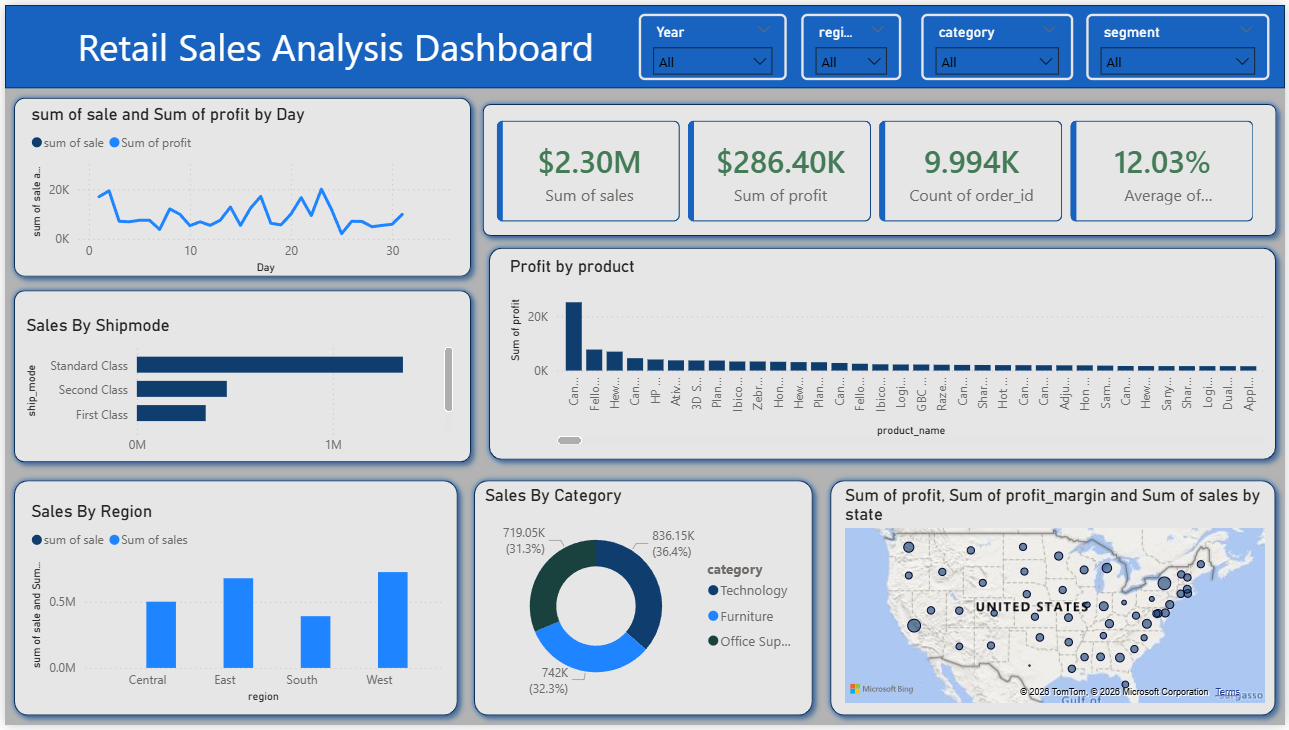

The page's visual inventory and layout, read from the dashboard file:
{"tool":"powerbi","page":{"name":"Performance overview","canvas":[1280,720],"ordinal":0},"visuals":[{"type":"shape","box":[468.3,90,811.7,150],"z":0},{"type":"shape","box":[816.7,466.7,463.3,253.3],"z":1000},{"type":"shape","box":[460,466.7,356.7,253.3],"z":2000},{"type":"shape","box":[475,233.3,805,230],"z":3000},{"type":"shape","box":[0,276.7,475,190],"z":4000},{"type":"shape","box":[0,83.3,475,197],"z":5000},{"type":"shape","box":[0,466.7,461.7,253.3],"z":6000},{"type":"cardVisual","fields":{"Data":["Sum(retail_sales retail.sales)","Sum(retail_sales retail.profit)","CountNonNull(retail_sales retail.order_id)","Sum(retail_sales retail.profit_margin)"]},"box":[475,98.3,790,135],"z":7000},{"type":"lineChart","fields":{"Category":["retail_sales retail.order_date.Variation.Date Hierarchy.Year","retail_sales retail.order_date.Variation.Date Hierarchy.Quarter","retail_sales retail.order_date.Variation.Date Hierarchy.Month","retail_sales retail.order_date.Variation.Date Hierarchy.Day"],"Y":["retail_sales retail.sum of sale"],"Y2":["Sum(retail_sales retail.profit)"]},"box":[21.7,98.3,431.7,175],"z":8000},{"type":"donutChart","title":"Sales By Category","fields":{"Category":["retail_sales retail.category"],"Y":["Sum(retail_sales retail.sales)"]},"box":[475,480,328.3,223.3],"z":9000},{"type":"map","fields":{"Category":["retail_sales retail.state"],"Size":["Sum(retail_sales retail.profit)"]},"box":[835,480,430,223.3],"z":10000},{"type":"clusteredColumnChart","title":"Profit by product","fields":{"Category":["retail_sales retail.product_name"],"Y":["Sum(retail_sales retail.profit)"]},"box":[500,251.7,765,193.3],"z":11000},{"type":"clusteredBarChart","title":"Sales By Shipmode","fields":{"Category":["retail_sales retail.ship_mode"],"Y":["Sum(retail_sales retail.sales)"]},"box":[16.7,310,436.7,148.3],"z":12000},{"type":"shape","box":[0,0,1280,83.3],"z":13000},{"type":"textbox","box":[0,11.7,661.7,66.7],"z":14000},{"type":"clusteredColumnChart","title":"Sales By Region","fields":{"Category":["retail_sales retail.region"],"Y":["retail_sales retail.sum of sale","Sum(retail_sales retail.sales)"]},"box":[21.7,496.7,420,206.7],"z":15000},{"type":"slicer","fields":{"Values":["retail_sales retail.order_date.Variation.Date Hierarchy.Year"]},"box":[633.3,8.3,148.3,66.7],"z":16000},{"type":"slicer","fields":{"Values":["retail_sales retail.region"]},"box":[796.7,8.3,100,66.7],"z":17000},{"type":"slicer","fields":{"Values":["retail_sales retail.category"]},"box":[916.7,8.3,151.7,66.7],"z":18000},{"type":"slicer","fields":{"Values":["retail_sales retail.segment"]},"box":[1081.7,8.3,183.3,66.7],"z":19000}]}

Visuals, with their boxes in screenshot pixels (x1, y1, x2, y2), scaled from the page's 1280x720 canvas onto the 1289x730 screenshot:
shape: (472,91,1288,243)
shape: (822,473,1288,729)
shape: (463,473,822,729)
shape: (478,237,1288,470)
shape: (0,281,478,473)
shape: (0,84,478,284)
shape: (0,473,465,729)
cardVisual - Sum(retail_sales retail.sales) x Sum(retail_sales retail.profit): (478,100,1274,237)
lineChart - retail_sales retail.order_date.Variation.Date Hierarchy.Year x retail_sales retail.order_date.Variation.Date Hierarchy.Quarter: (22,100,457,277)
"Sales By Category" donutChart: (478,487,809,713)
map - retail_sales retail.state x Sum(retail_sales retail.profit): (841,487,1274,713)
"Profit by product" clusteredColumnChart: (504,255,1274,451)
"Sales By Shipmode" clusteredBarChart: (17,314,457,465)
shape: (0,0,1288,84)
textbox: (0,12,666,79)
"Sales By Region" clusteredColumnChart: (22,504,445,713)
slicer - retail_sales retail.order_date.Variation.Date Hierarchy.Year: (638,8,787,76)
slicer - retail_sales retail.region: (802,8,903,76)
slicer - retail_sales retail.category: (923,8,1076,76)
slicer - retail_sales retail.segment: (1089,8,1274,76)
